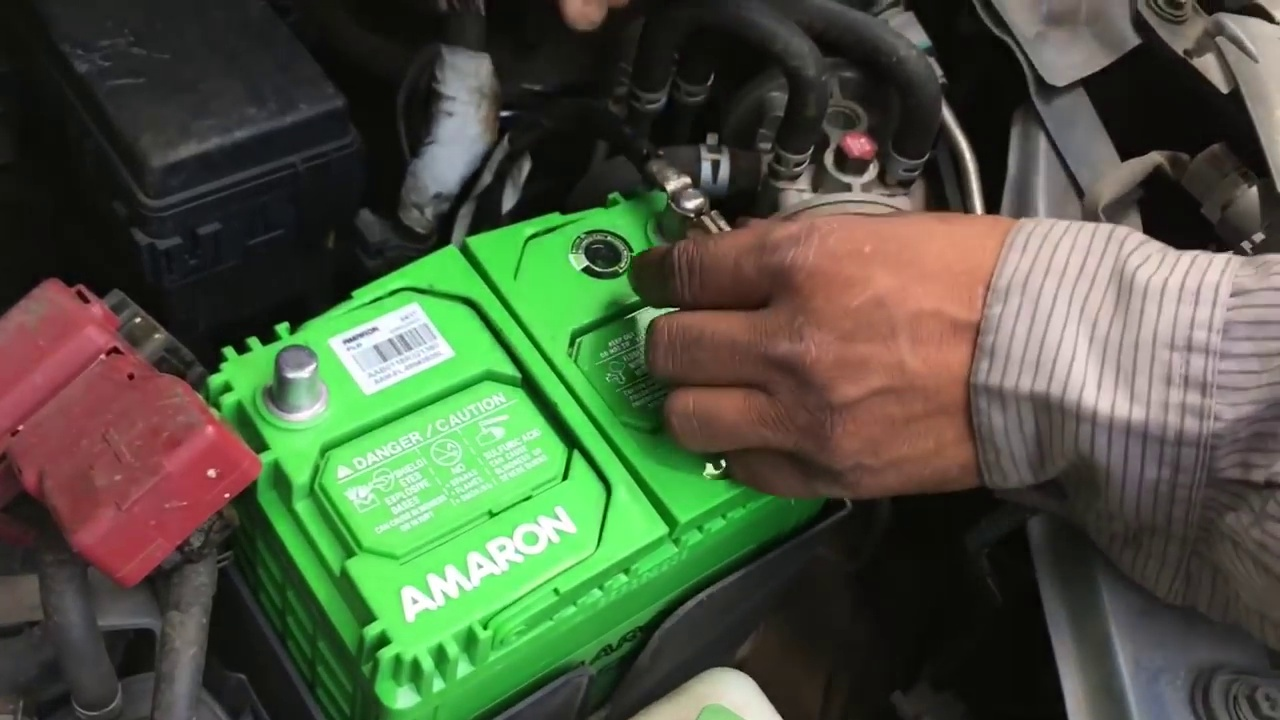battery: (206, 170, 831, 622)
neg_connected: (606, 107, 738, 269)
neg_touched: (618, 103, 829, 395)
pos_disconnected: (41, 306, 354, 491)
